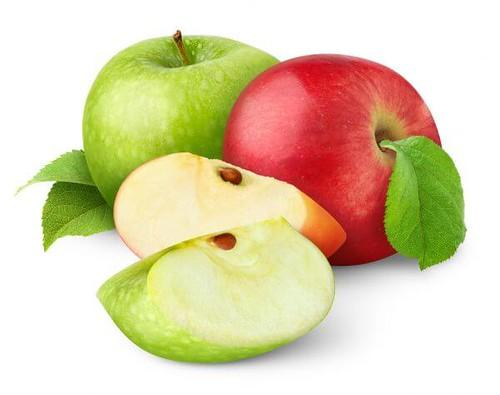apples: (237, 22, 469, 323), (98, 148, 355, 381), (39, 52, 312, 237)
